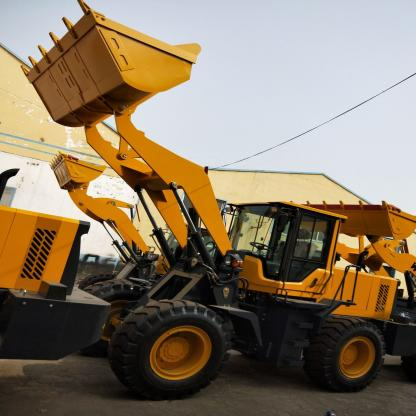bull_dozer/loader/grader: (6, 5, 416, 388)
